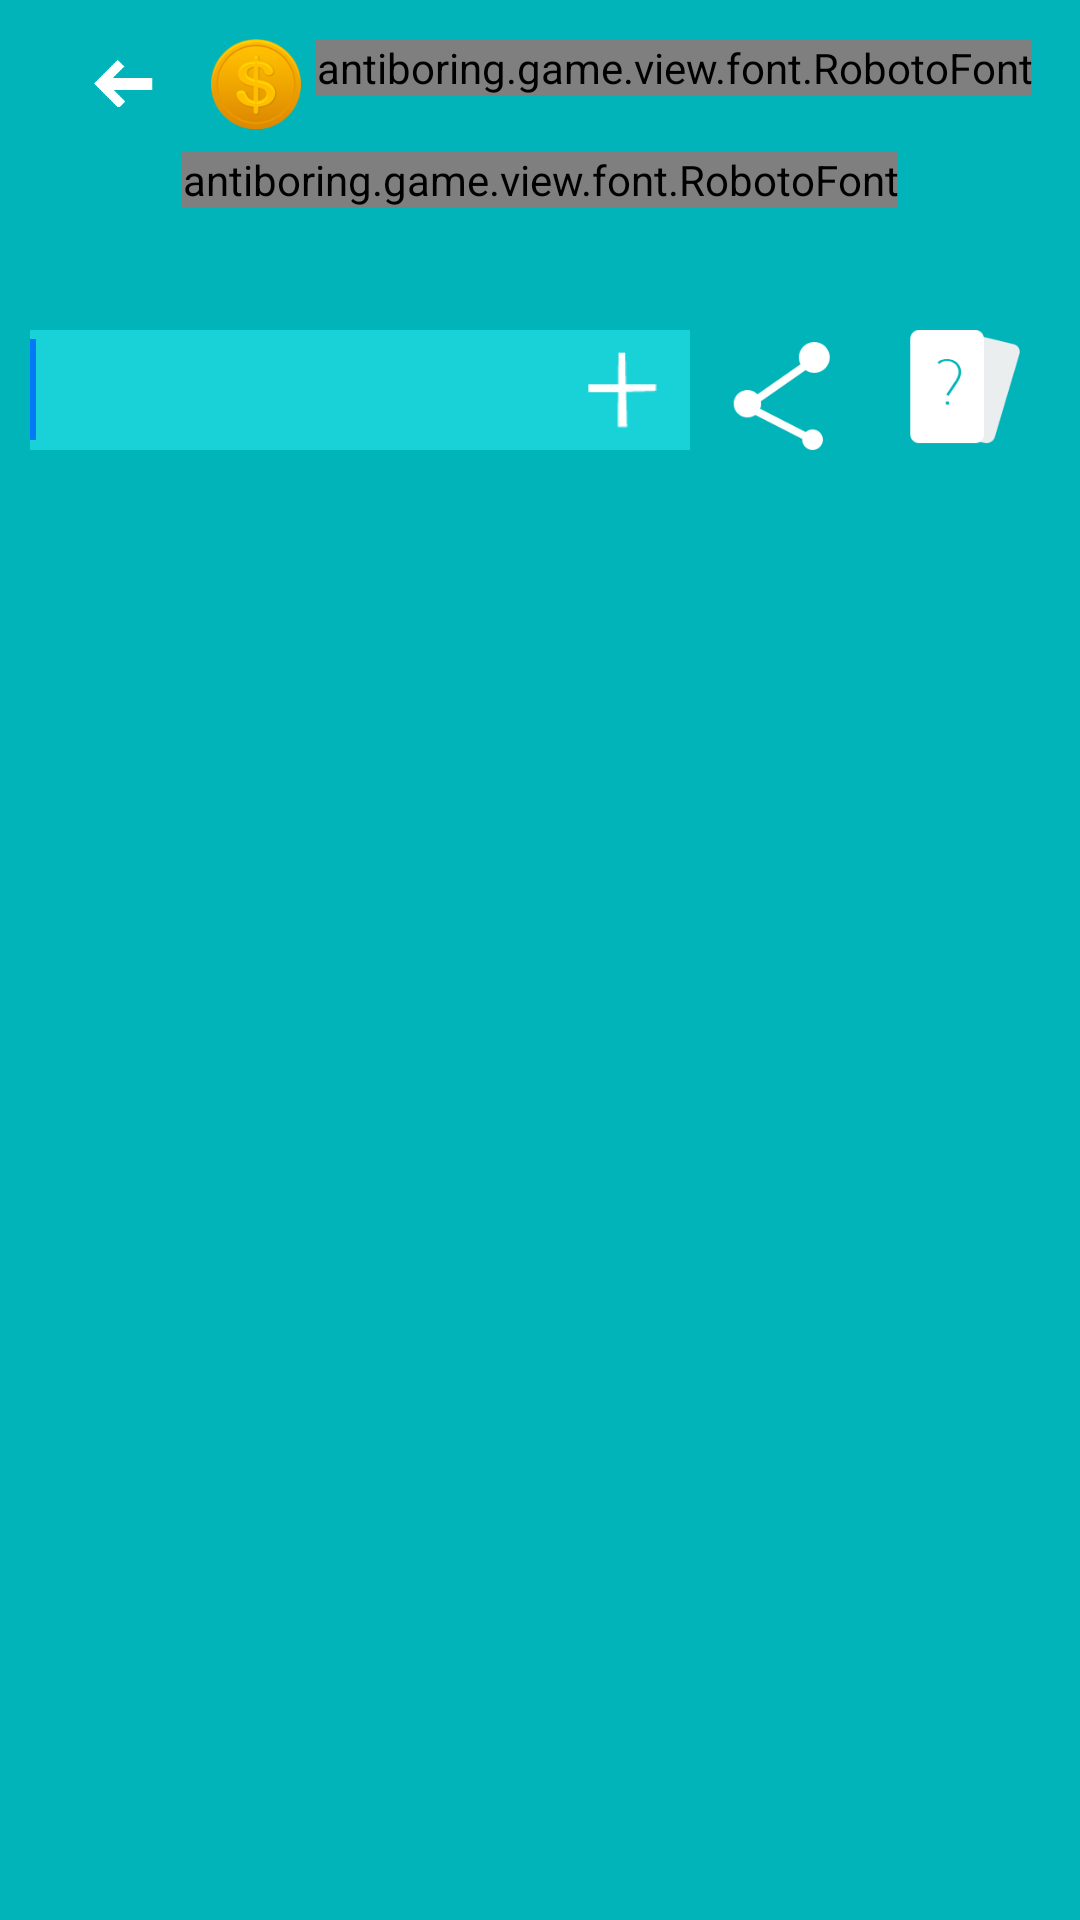

Locate icon controls on the screen. Image size 1080 x 1920, boxes as (x1, y1, x2, y2).
coins: (211, 39, 301, 129)
help: (910, 330, 1020, 443)
panahback putih: (94, 60, 153, 107)
share: (733, 342, 830, 450)
tambah: (588, 352, 657, 428)
